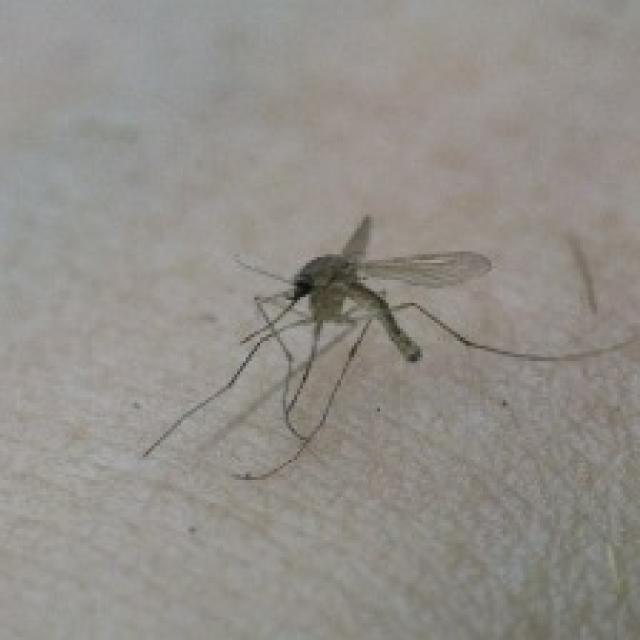culex: (140, 211, 637, 480)
